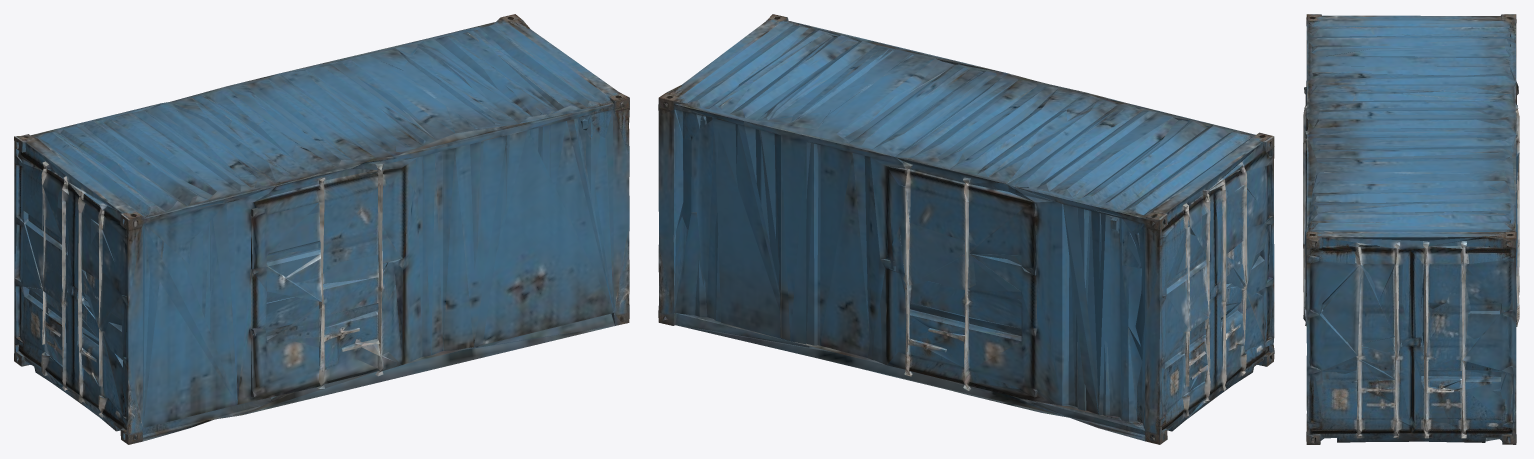
File: container.glb
3 views of the same model, side by side, from view 1: azimuth 30°, elevation 25°; view 2: azimuth 150°, elevation 25°; view 3: azimuth 270°, elevation 25° (orthographic). The views are drawn at different scales.
Visible parts, largest first — view 1: fit; view 2: fit; view 3: fit.
Boxes of the visible parts, x1,y1,x2,y2 form: fit: [14, 14, 629, 444]; fit: [658, 14, 1274, 444]; fit: [1303, 14, 1519, 444].
Bounding box in the file's own units: 6.06 × 2.59 × 2.44.
1 material, 1 textured.
